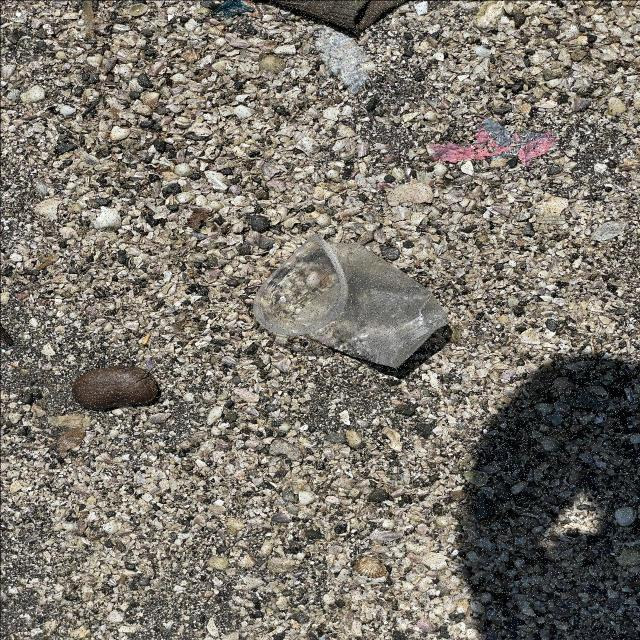plastic_waste: (253, 236, 452, 369)
